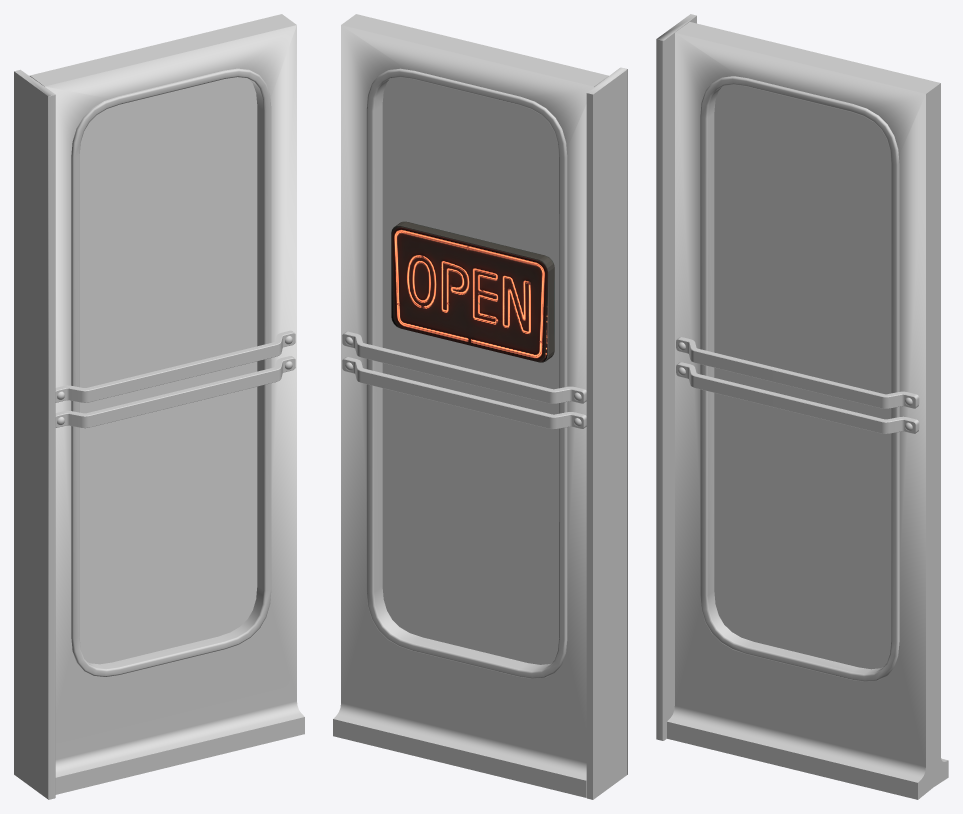
The model's file is SM_Door_Right.fbx.
3 views of the same model, side by side, from view 1: azimuth 30°, elevation 25°; view 2: azimuth 150°, elevation 25°; view 3: azimuth 330°, elevation 25° (orthographic).
Visible parts, largest first — view 1: SM_Update_Door_Right_v001; view 2: SM_Update_Door_Right_v001; view 3: SM_Update_Door_Right_v001.
Boxes of the visible parts, <box> form: SM_Update_Door_Right_v001: <box>14,14,304,799</box>; SM_Update_Door_Right_v001: <box>333,14,627,799</box>; SM_Update_Door_Right_v001: <box>656,14,948,799</box>.
Size of the model in its own units: 0.875 by 2.26 by 0.2309.
3 materials, 1 textured.
